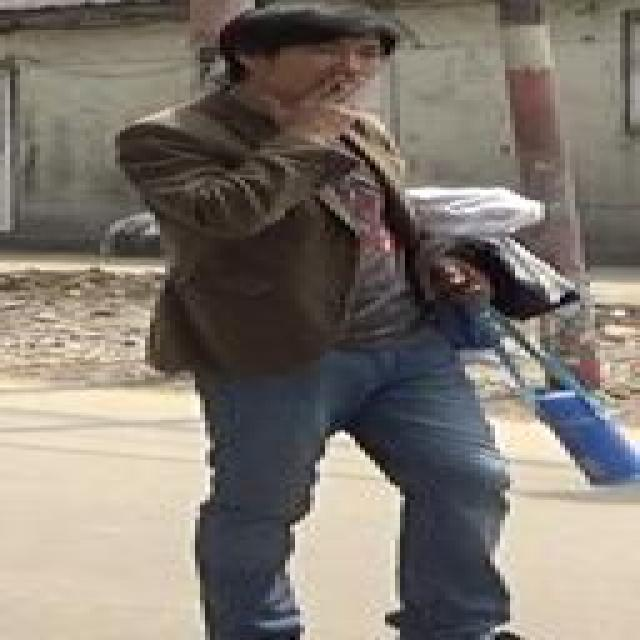adult: (113, 1, 543, 640)
